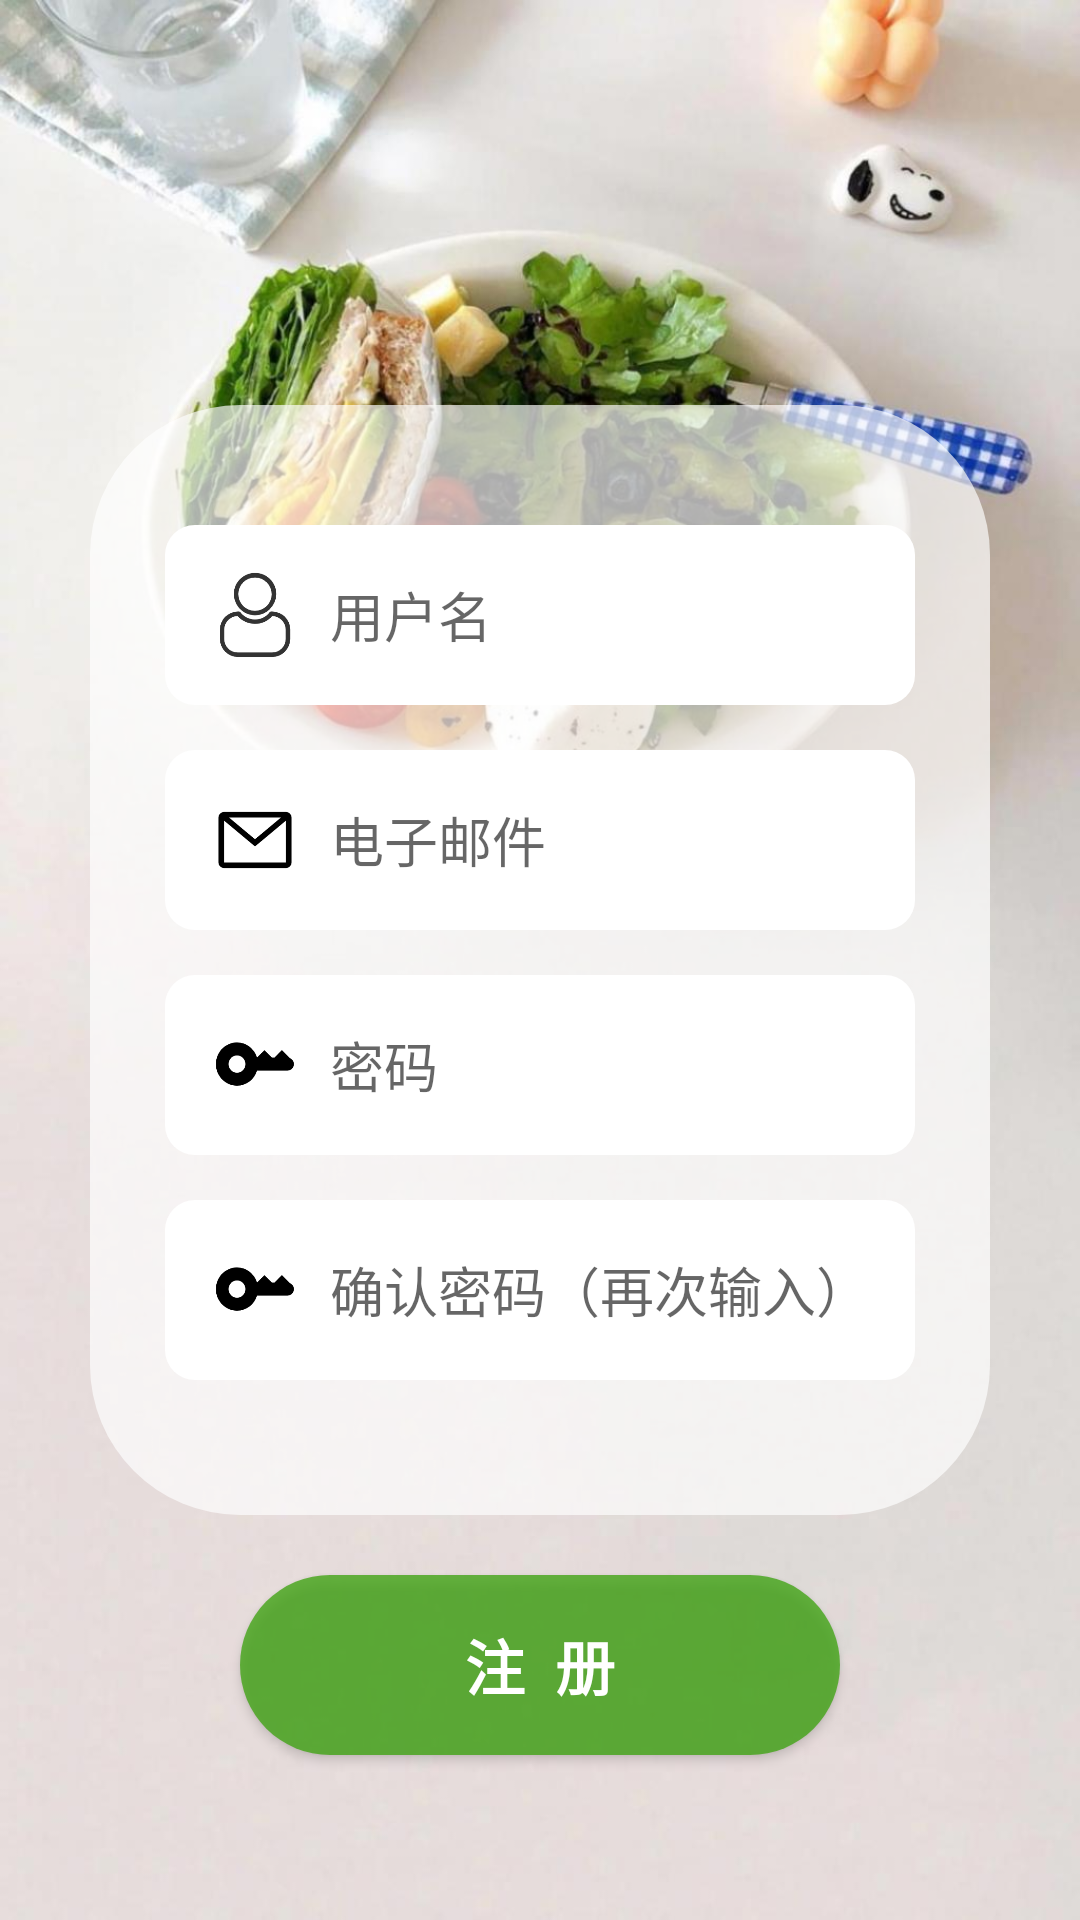

Screen size 1080w x 1920h. Icon name, then its center in pixels as point (x, y):
login psw: point (255, 1064), point (255, 1289)
login usr: point (255, 615)
register email: point (255, 840)
